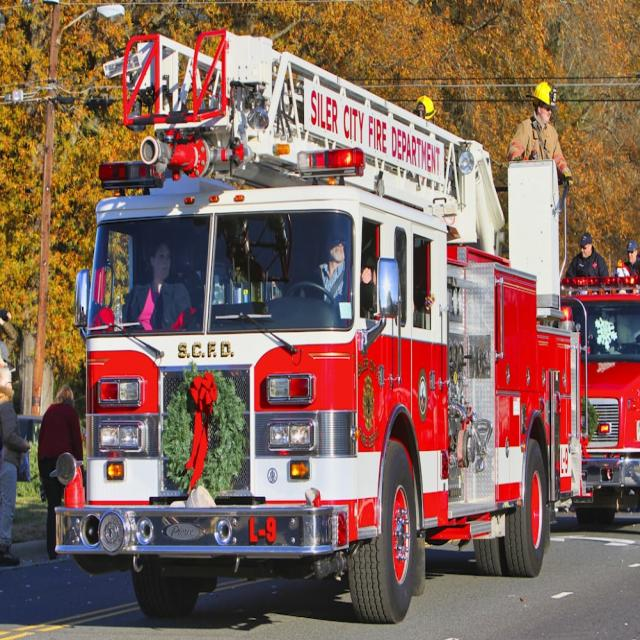emergency: (58, 30, 589, 622)
